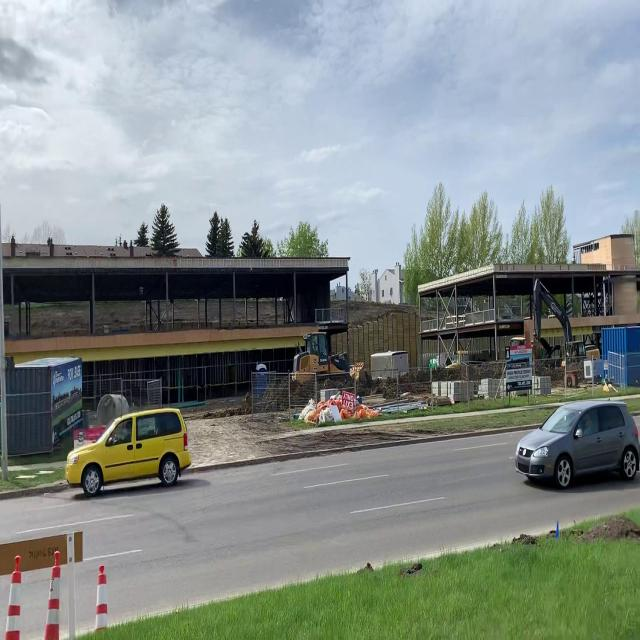buldozerpayloadergrader: (289, 318, 366, 390)
excavator: (529, 276, 600, 383)
